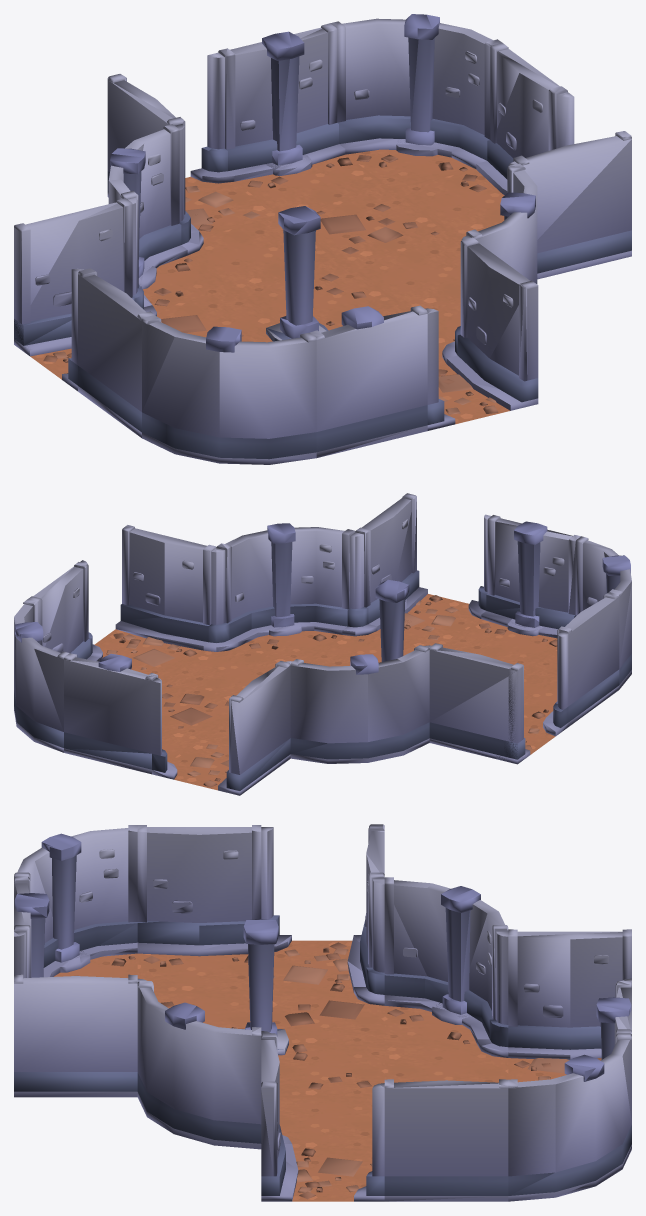
The model's file is room-large-variation.fbx.
The picture shows the model from 3 angles, top to bottom: view 1: azimuth 30°, elevation 25°; view 2: azimuth 150°, elevation 25°; view 3: azimuth 270°, elevation 25°; orthographic projection. The views are drawn at different scales.
Visible parts, largest first — view 1: room-large-variation; view 2: room-large-variation; view 3: room-large-variation.
Boxes of the visible parts, bbox=[...] form: room-large-variation: bbox=[14, 14, 631, 464]; room-large-variation: bbox=[14, 493, 631, 795]; room-large-variation: bbox=[14, 824, 631, 1201].
Size of the model in its own units: 2000 by 423 by 2000.
